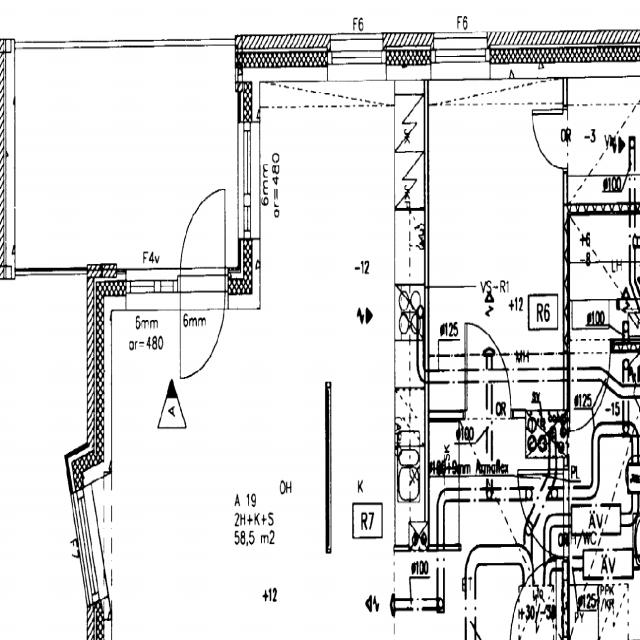door: (180, 268, 225, 397), (180, 182, 225, 310), (518, 470, 569, 556), (466, 324, 511, 420), (510, 552, 555, 640), (570, 339, 610, 427), (532, 109, 569, 168)
